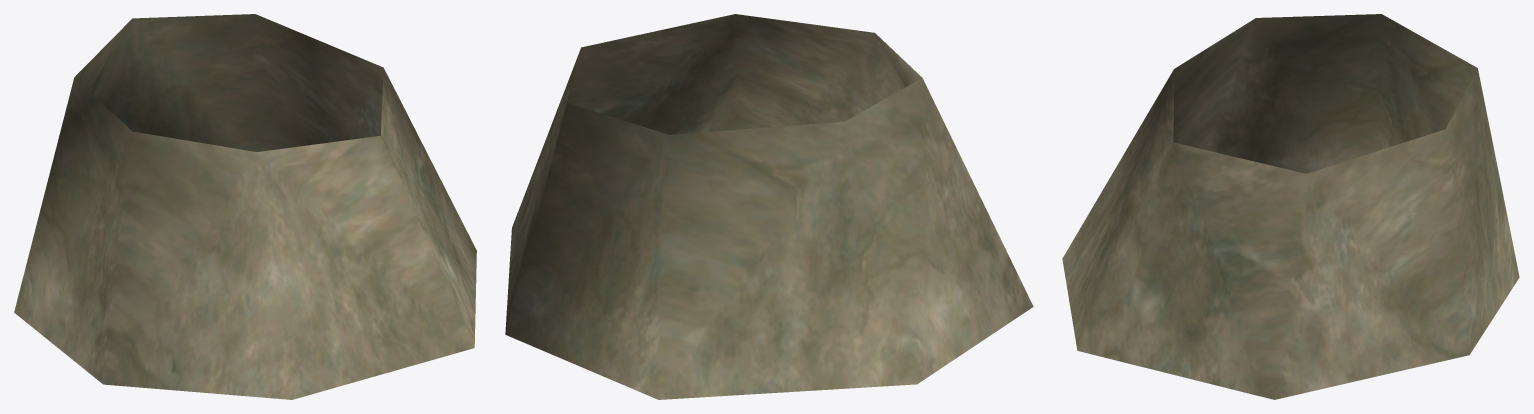
The model's file is EKH_JAIL_PS_JA_GR_OBJECT79.fbx.
3 renders of one model, left to right at view 1: azimuth 30°, elevation 25°; view 2: azimuth 150°, elevation 25°; view 3: azimuth 270°, elevation 25°, orthographic. The views are drawn at different scales.
Visible parts, largest first — view 1: EKH_JAIL_PS_JA_GR_OBJECT79; view 2: EKH_JAIL_PS_JA_GR_OBJECT79; view 3: EKH_JAIL_PS_JA_GR_OBJECT79.
Part boxes in pixels (bbox=[...]): EKH_JAIL_PS_JA_GR_OBJECT79: bbox=[14, 14, 476, 399]; EKH_JAIL_PS_JA_GR_OBJECT79: bbox=[505, 14, 1033, 399]; EKH_JAIL_PS_JA_GR_OBJECT79: bbox=[1062, 14, 1519, 399].
Size of the model in its own units: 22827 by 11430 by 21818.
Materials: 1 (1 with a texture image).
